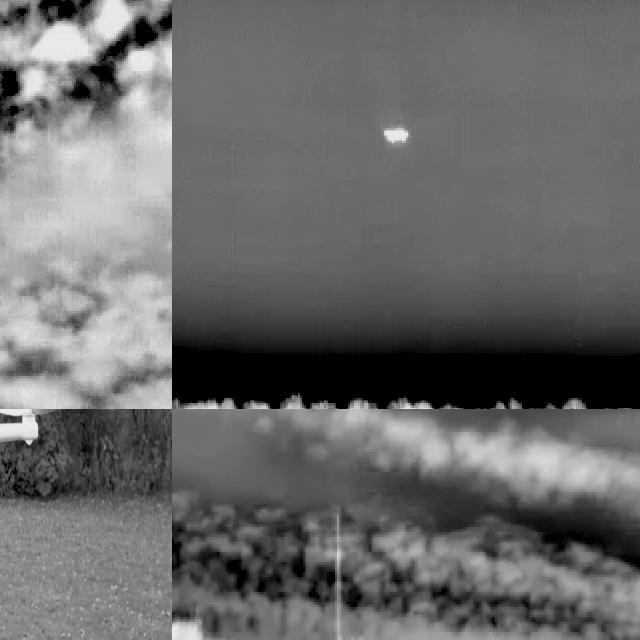1: (372, 122, 416, 154)
drone: (0, 409, 78, 563)
